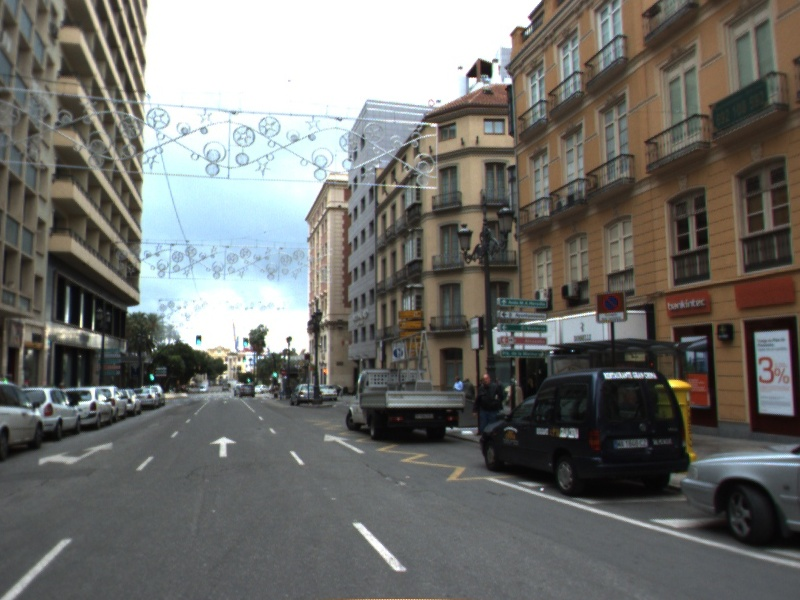STRAIGHT: (322, 432, 367, 455), (207, 434, 239, 459)
STRAIGHT_LEFT: (36, 440, 115, 468)
